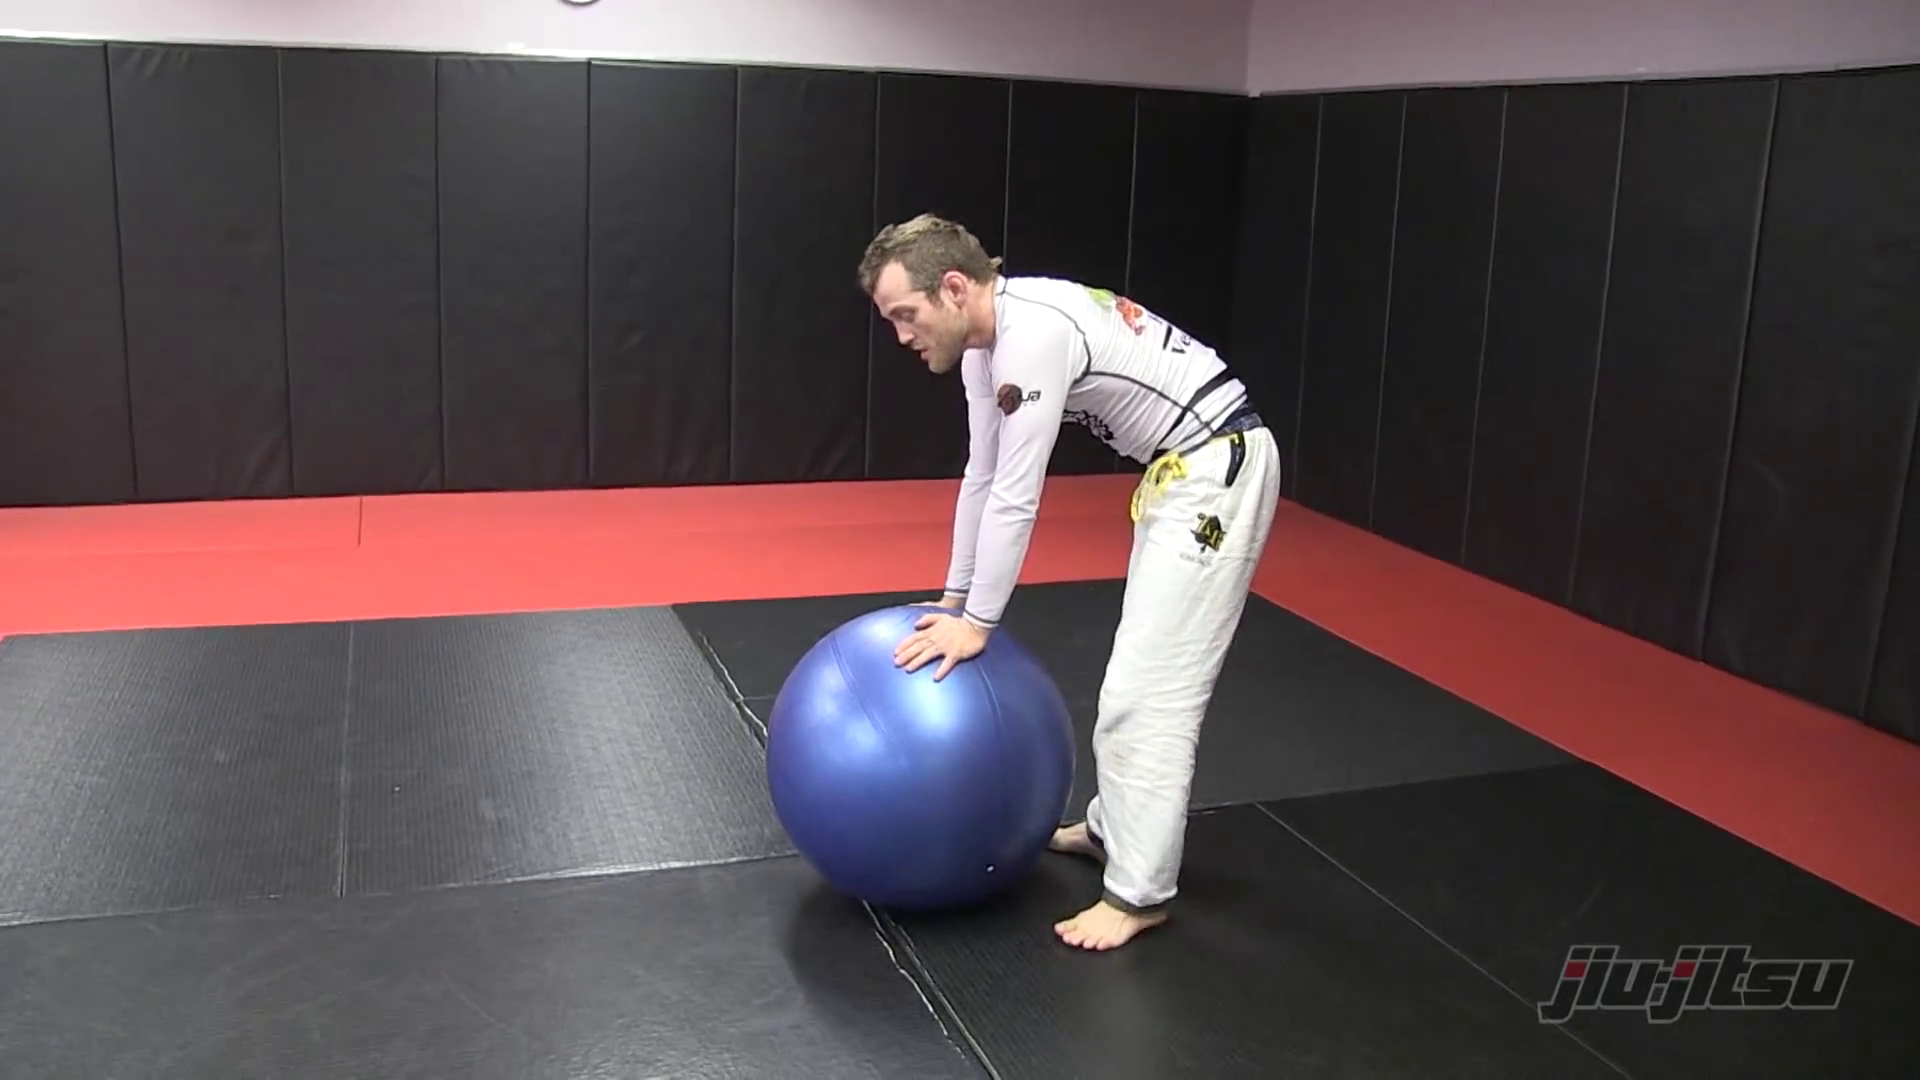yogaball: (749, 597, 1102, 924)
